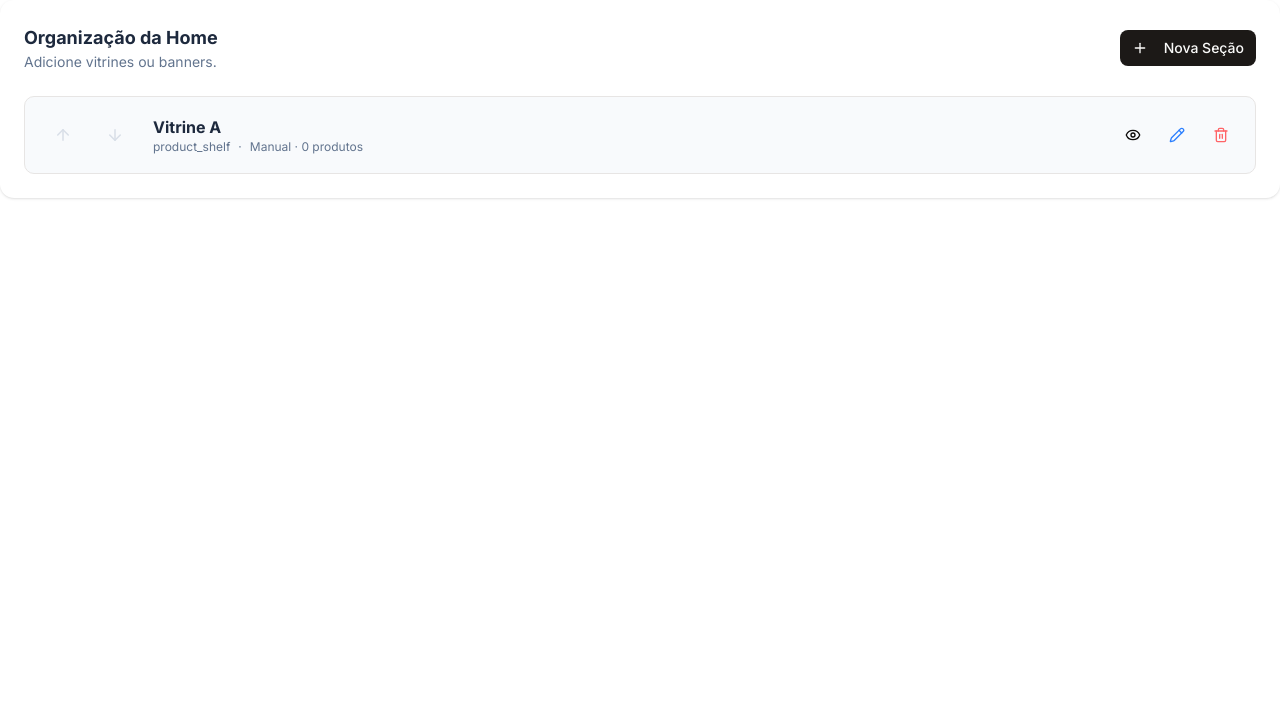
SectionsTab › renomear vitrine › persiste o novo título ao salvar o modal
The image size is (1280, 720).
Click the 5th button. click: (1177, 135)
box: [1159, 117, 1195, 153]
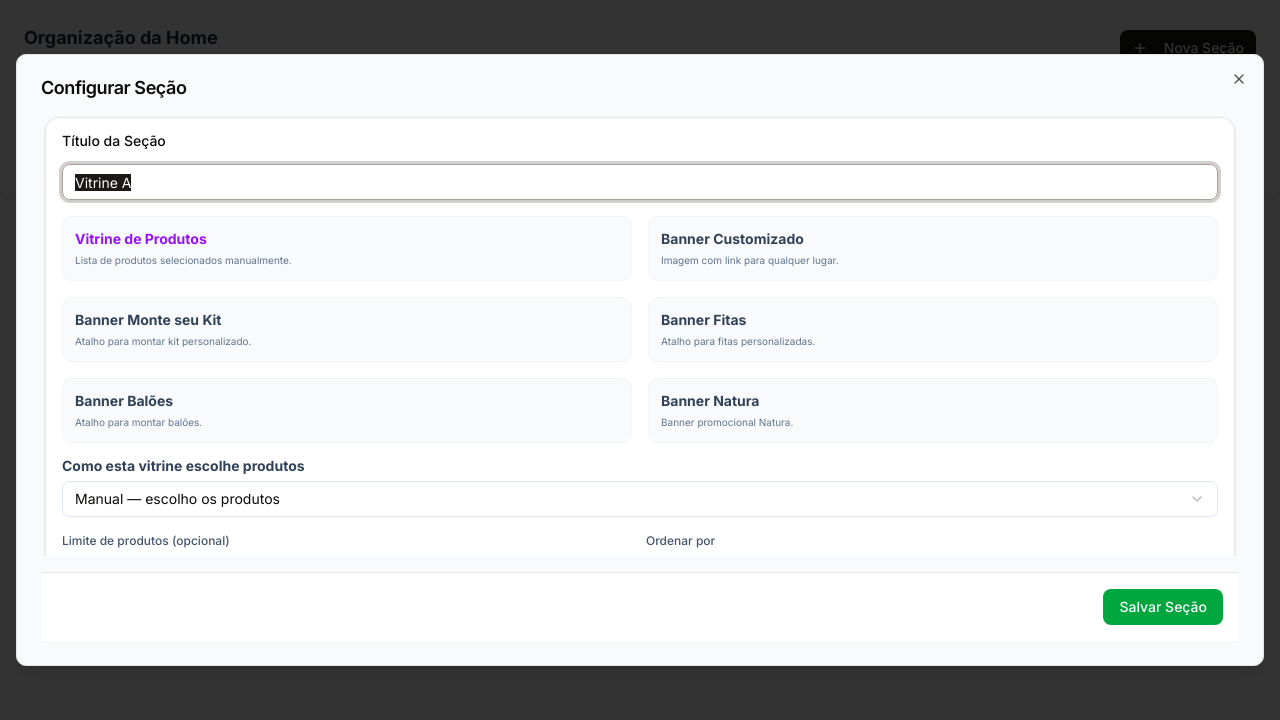
Replace the text in the field showing "Vitrine A" with "Vitrine Renomeada". click: (640, 182)
box: [62, 164, 1218, 200]
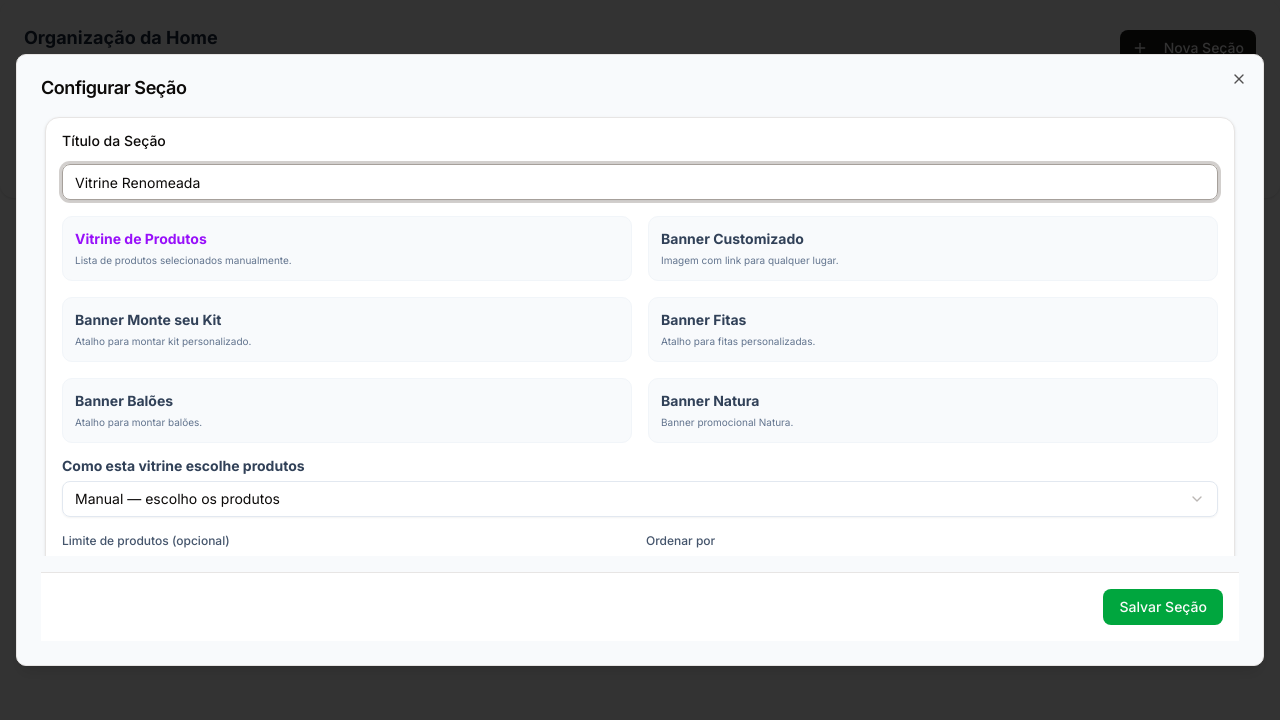
Click the button "Salvar Seção". click: (1163, 607)
box: [1103, 589, 1223, 625]
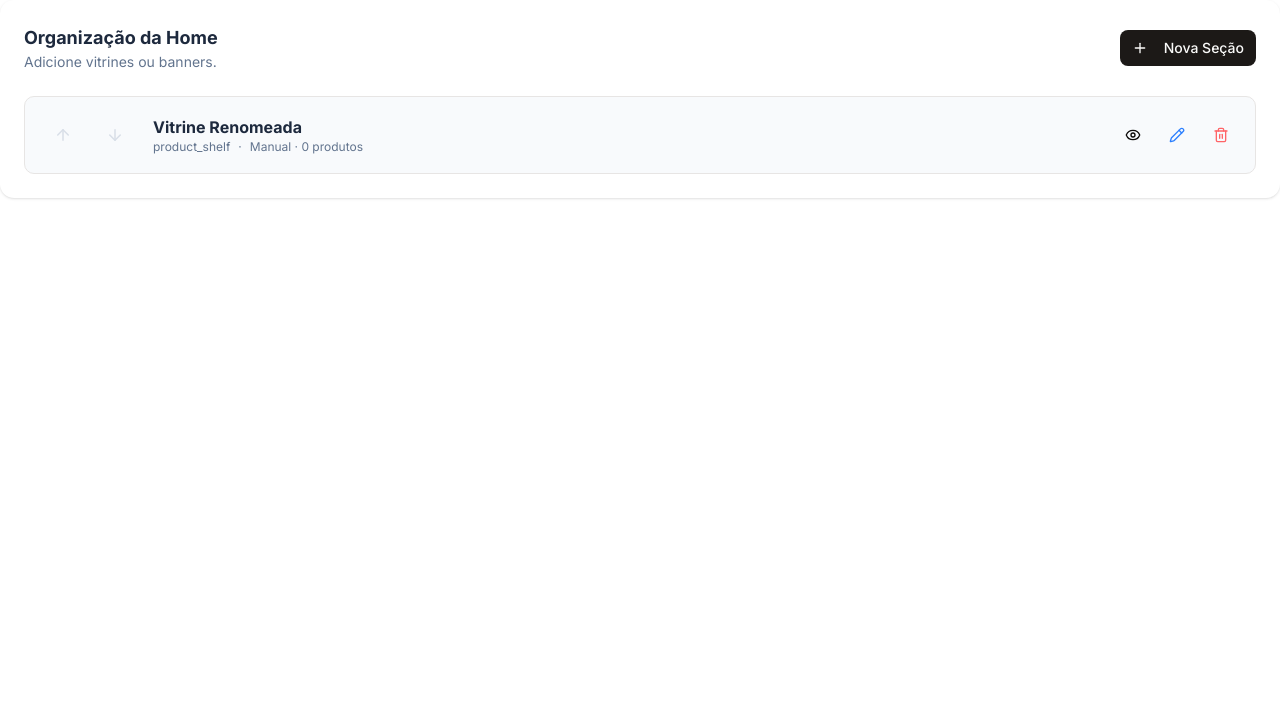
Expected: the heading "Vitrine Renomeada" is shown, [153, 115, 302, 139]
Expected: the heading "Vitrine A" is gone
